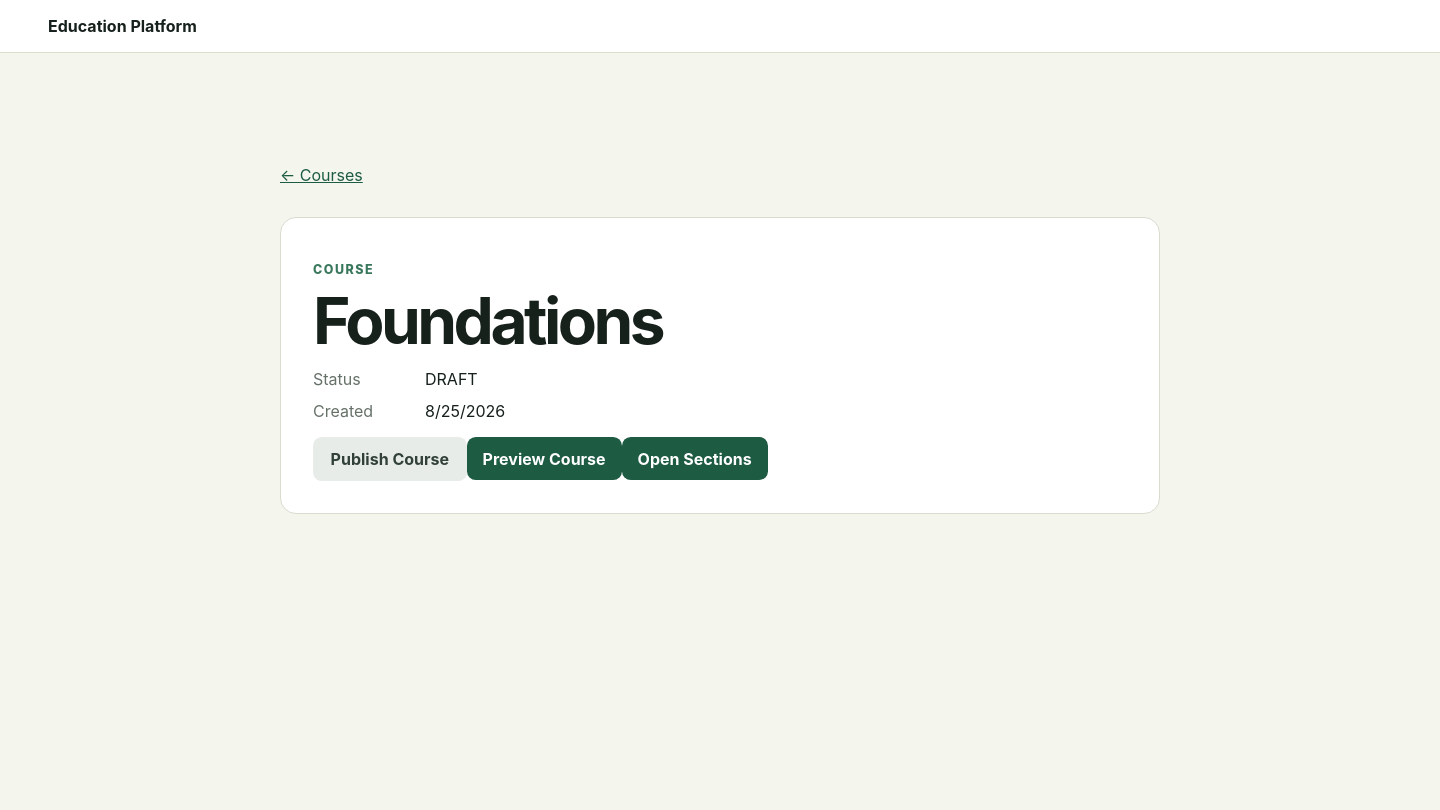
Test: Course Preview › navigates from Course detail to the dedicated Preview route
Click the link "Preview Course" at (544, 459), box 467,438 -> 622,480
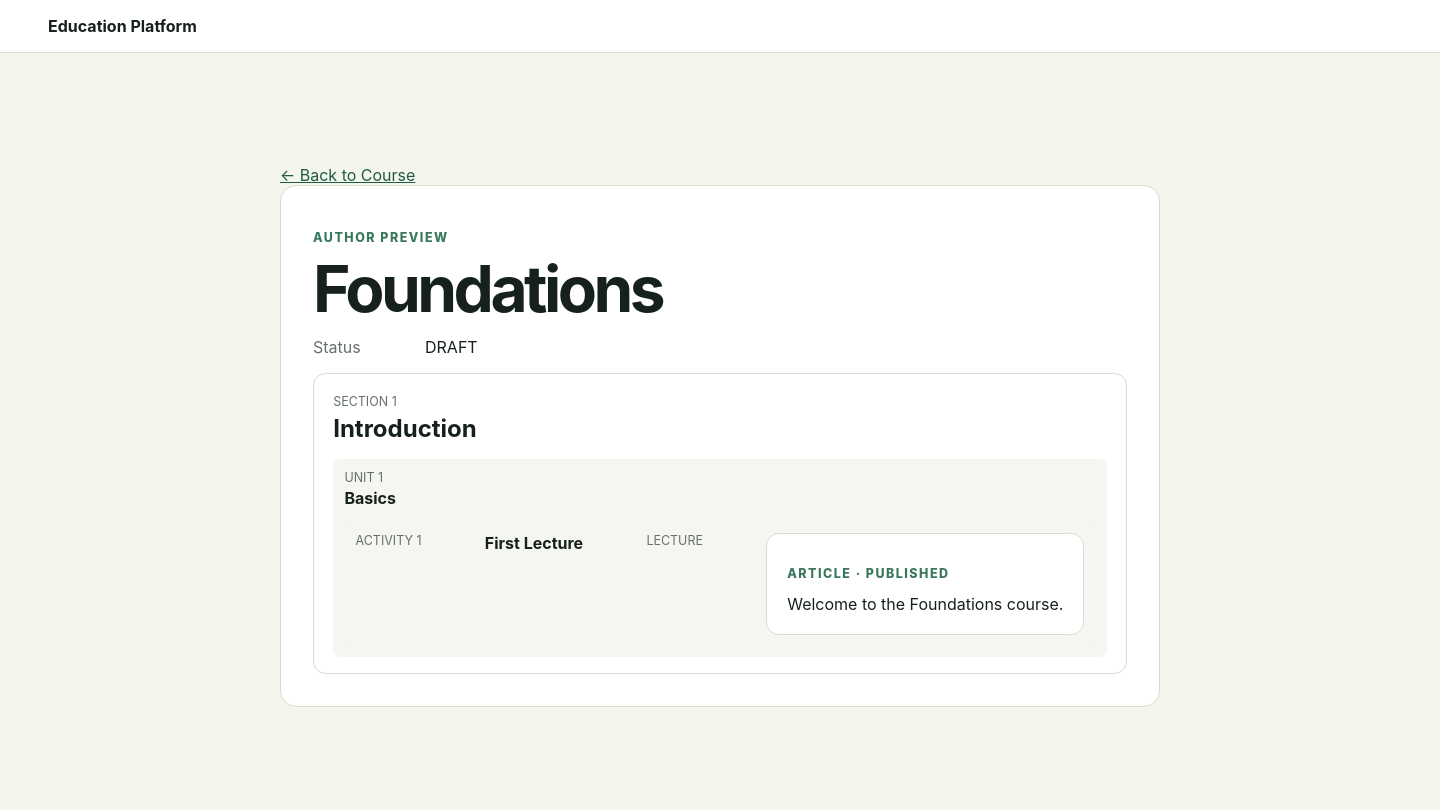
Check: the text "Author Preview" is shown, box 313,230 -> 449,246
Check: the heading "Introduction" is shown, box 333,414 -> 477,443
